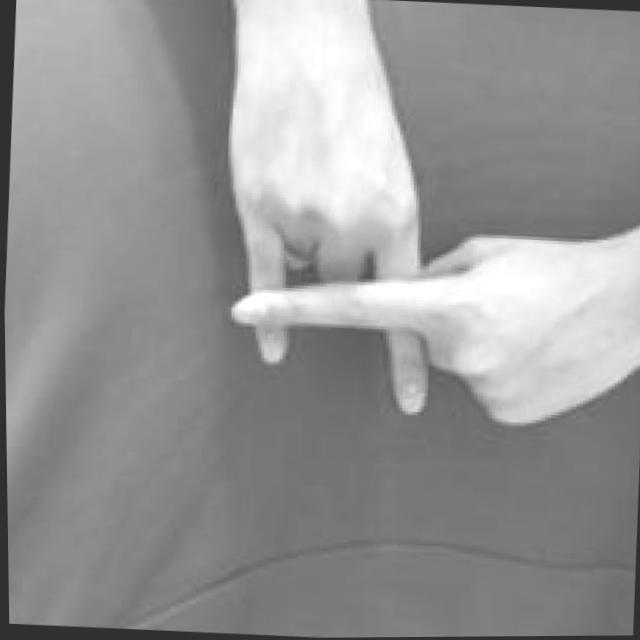H: (203, 0, 640, 433)
